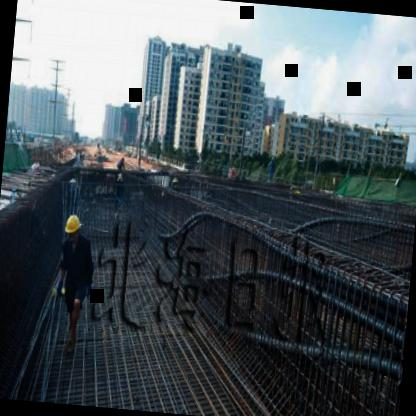helmet: (60, 212, 86, 246)
